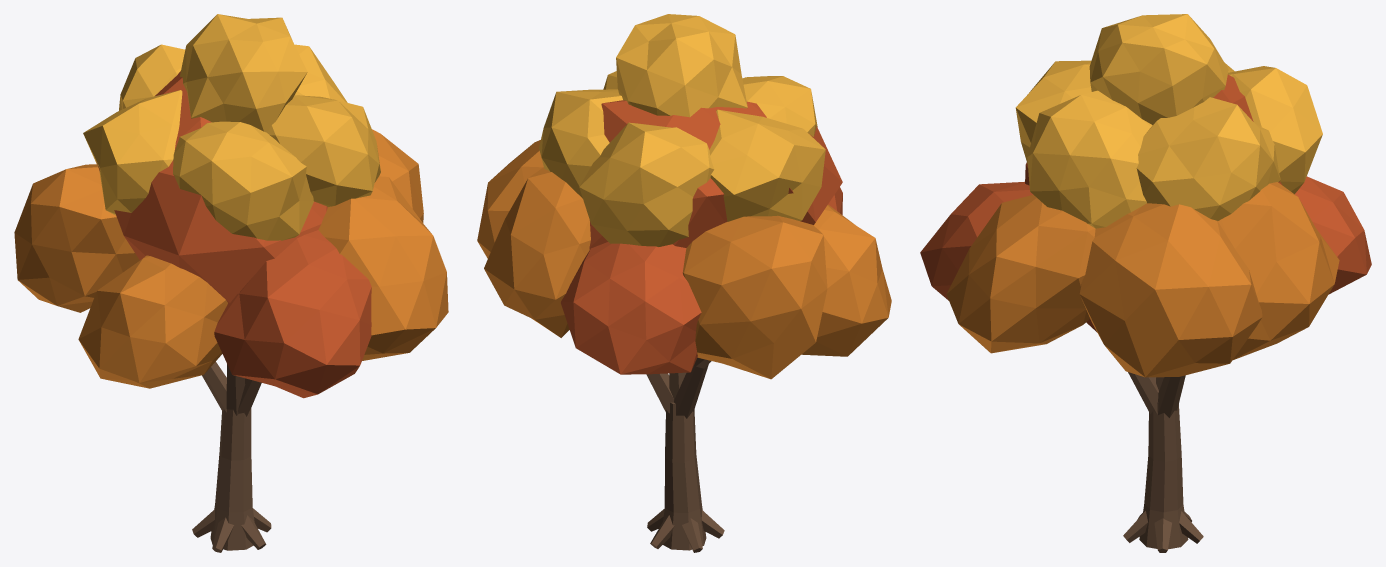
The model's file is maple-autumn.glb.
3 views of the same model, side by side, from view 1: azimuth 30°, elevation 25°; view 2: azimuth 150°, elevation 25°; view 3: azimuth 270°, elevation 25° (orthographic). The views are drawn at different scales.
Visible parts, largest first — view 1: MapleAutumn_LeavesLight, MapleAutumn_Leaves, MapleAutumn_LeavesDark, MapleAutumn_Trunk; view 2: MapleAutumn_LeavesLight, MapleAutumn_Leaves, MapleAutumn_LeavesDark, MapleAutumn_Trunk; view 3: MapleAutumn_Leaves, MapleAutumn_LeavesLight, MapleAutumn_LeavesDark, MapleAutumn_Trunk.
Boxes of the visible parts, <box> form: MapleAutumn_LeavesLight: <box>83,14,380,240</box>; MapleAutumn_Leaves: <box>14,129,448,388</box>; MapleAutumn_LeavesDark: <box>96,71,371,398</box>; MapleAutumn_Trunk: <box>192,361,271,552</box>; MapleAutumn_LeavesLight: <box>539,14,825,246</box>; MapleAutumn_Leaves: <box>477,140,891,379</box>; MapleAutumn_LeavesDark: <box>561,100,842,374</box>; MapleAutumn_Trunk: <box>646,357,724,552</box>; MapleAutumn_Leaves: <box>946,182,1339,377</box>; MapleAutumn_LeavesLight: <box>1015,14,1322,228</box>; MapleAutumn_LeavesDark: <box>920,74,1371,331</box>; MapleAutumn_Trunk: <box>1123,372,1203,552</box>.
Size of the model in its own units: 34.69 by 47.17 by 36.89.
